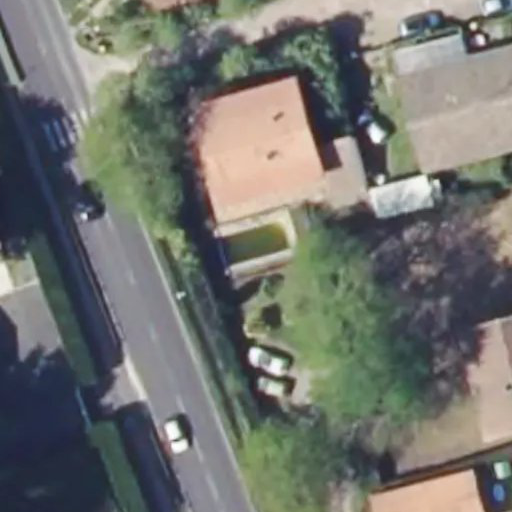pool: (221, 220, 292, 270)
